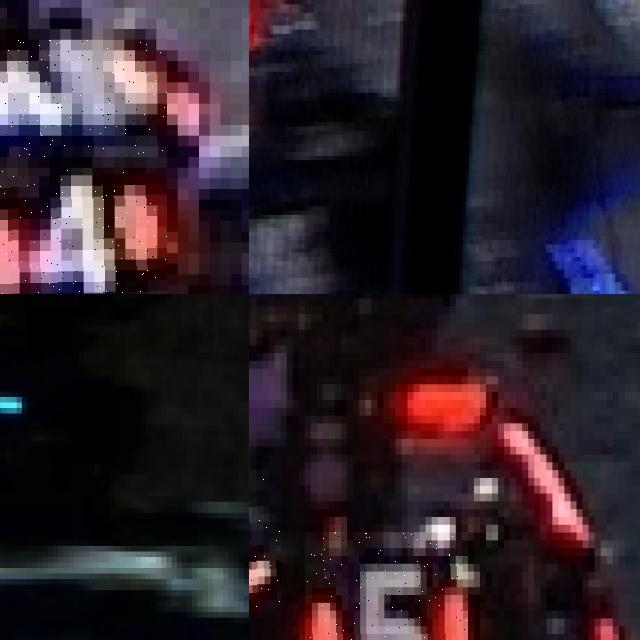R4: (0, 167, 167, 294), (0, 39, 167, 157)
R5: (305, 532, 468, 640), (249, 470, 281, 610)
